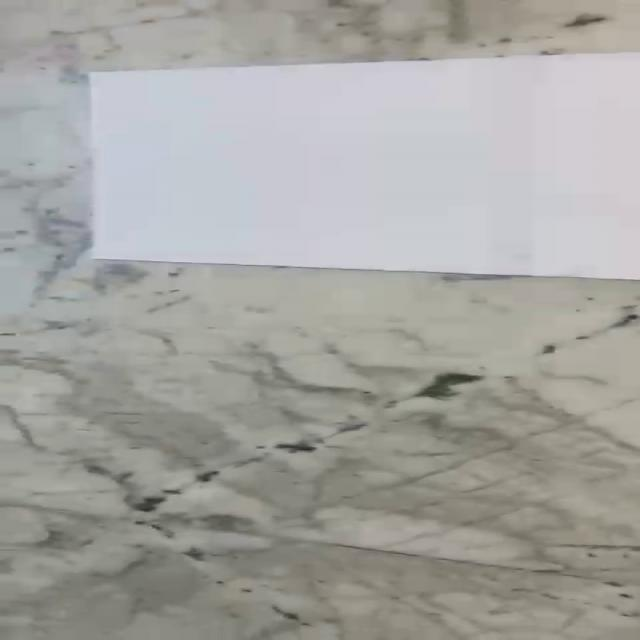road: (87, 51, 640, 279)
